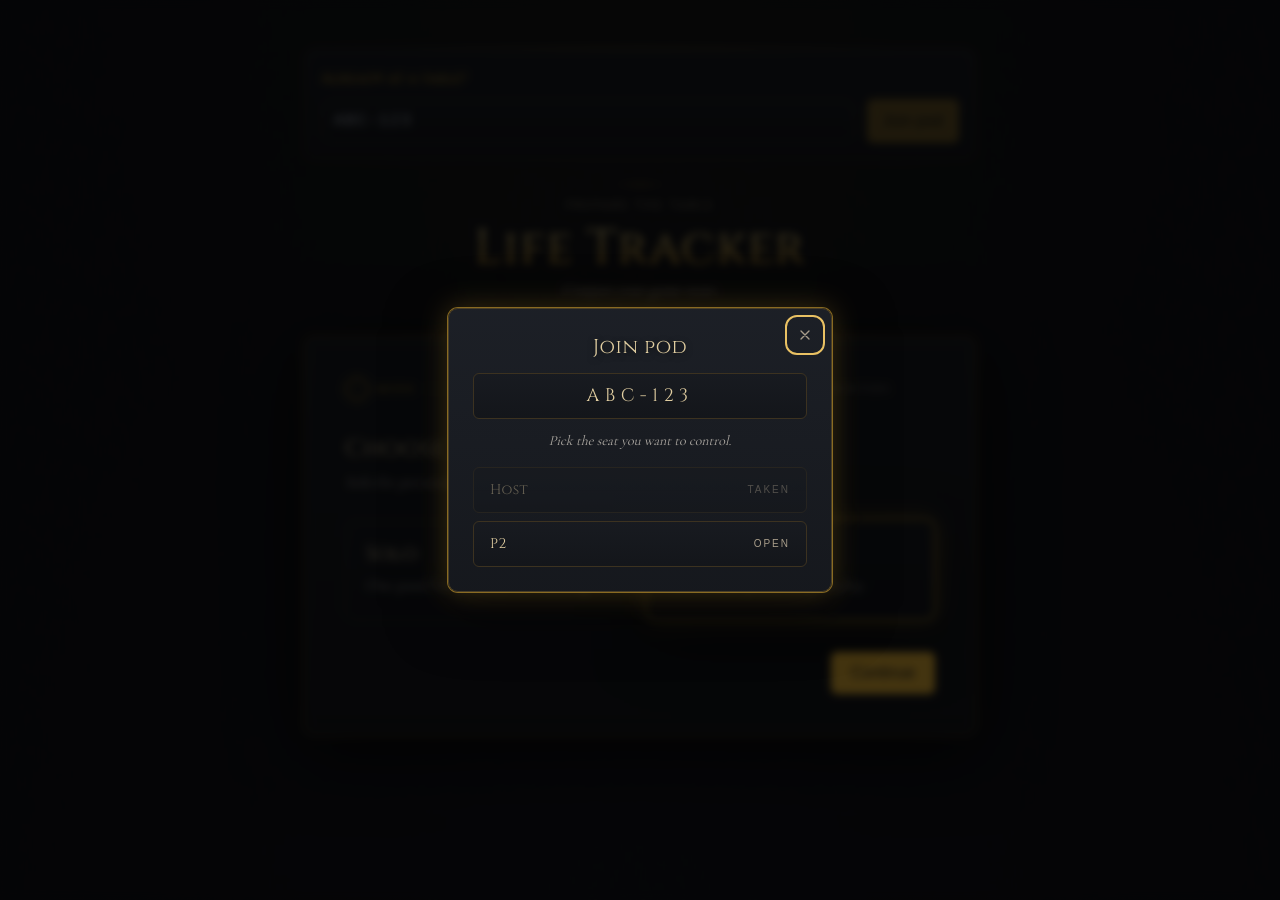
Tracker Page › Pod Sync wiring › opens JoinModal when ?join=CODE is present, claims a seat, and drops into the tracker
Check: the text with test id "join-code" reads "ABC-123", box [586,383,694,408]
Check: the button with test id "join-seat-1" is disabled, box [473,467,807,513]
Click the button with test id "join-seat-2" at (772, 544), box [473,521,807,567]
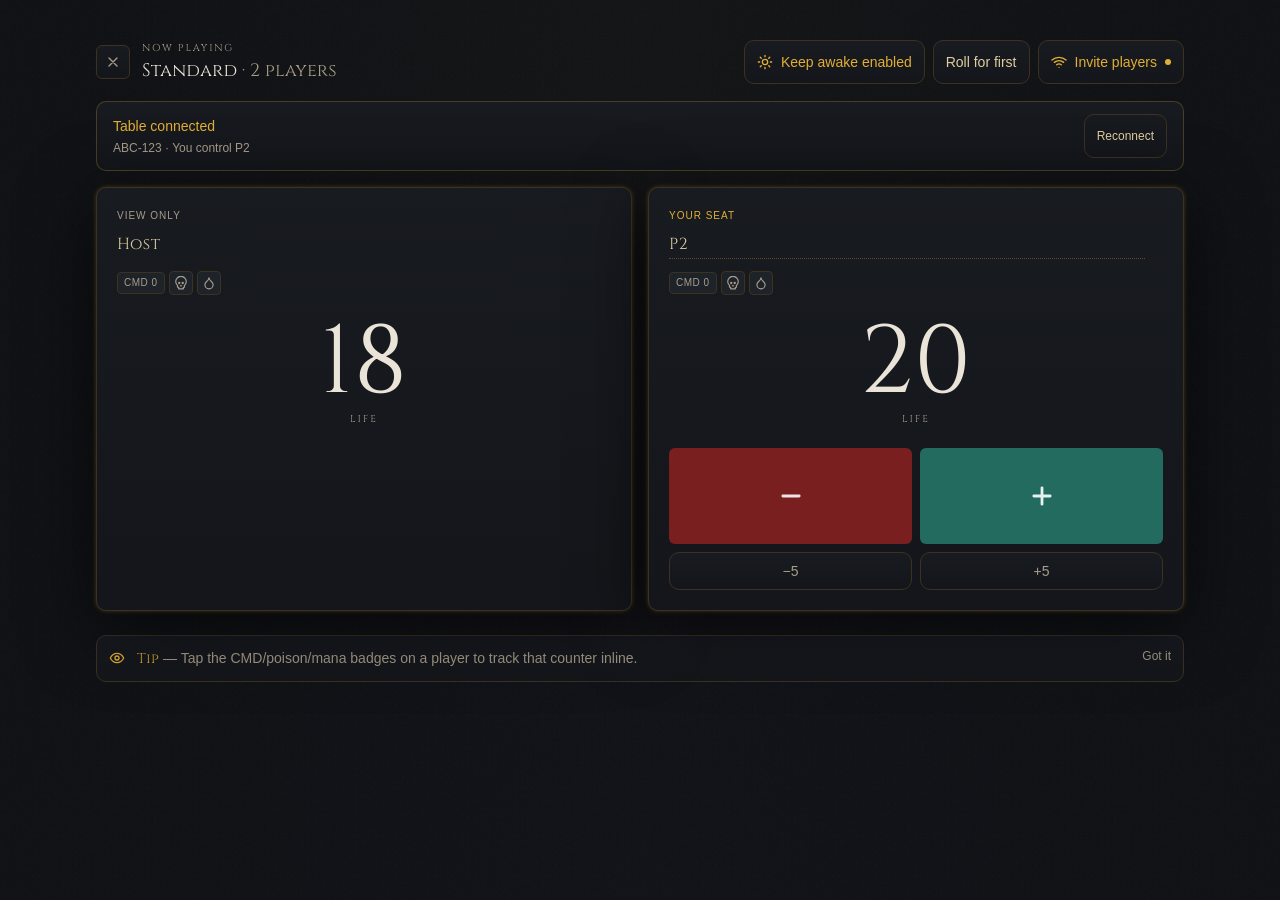
Check: the text with test id "life-1" reads "18", box [320,298,408,428]
Check: the text with test id "life-2" reads "20", box [860,298,972,428]
Check: the element with test id "join-dialog" is gone
